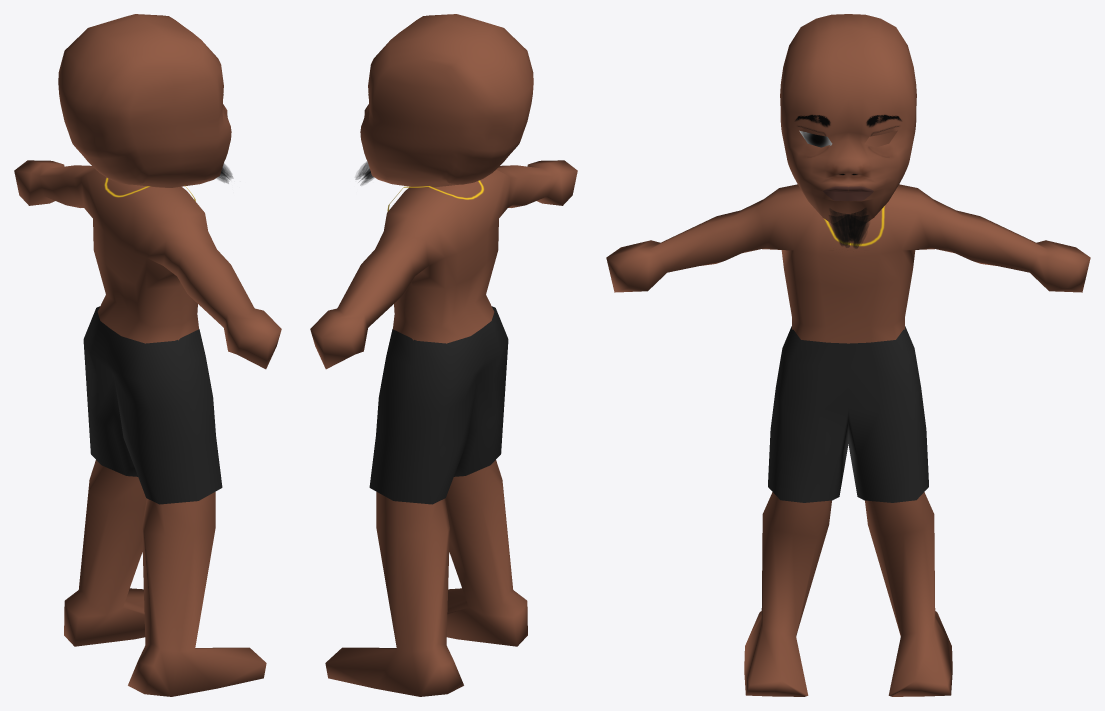
The model's file is character.glb.
3 views of the same model, side by side, from view 1: azimuth 30°, elevation 25°; view 2: azimuth 150°, elevation 25°; view 3: azimuth 270°, elevation 25° (orthographic).
Parts seen in each view (by area): view 1: malik; view 2: malik; view 3: malik.
Part boxes in pixels (bbox=[...]): malik: bbox=[14, 14, 281, 696]; malik: bbox=[310, 14, 577, 696]; malik: bbox=[606, 14, 1090, 696].
Size of the model in its own units: 2.64 by 9.46 by 6.5.
5 materials, 4 textured.
